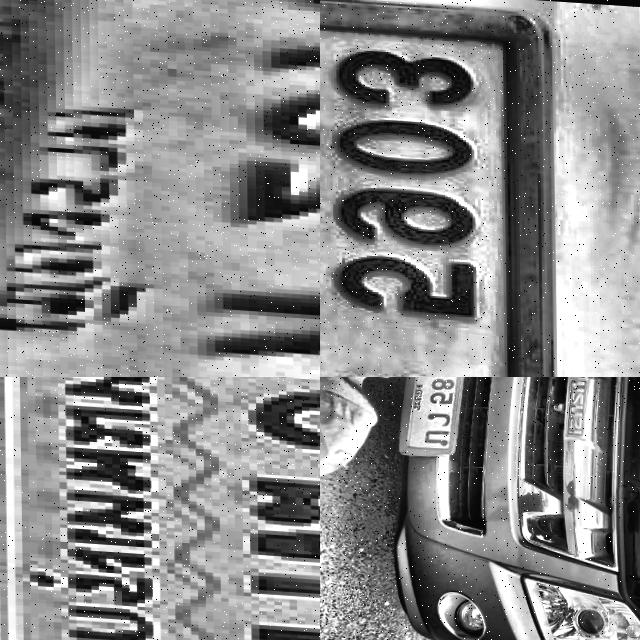license-plate: (0, 0, 320, 377), (320, 0, 557, 377), (0, 377, 320, 640), (392, 377, 468, 457)
